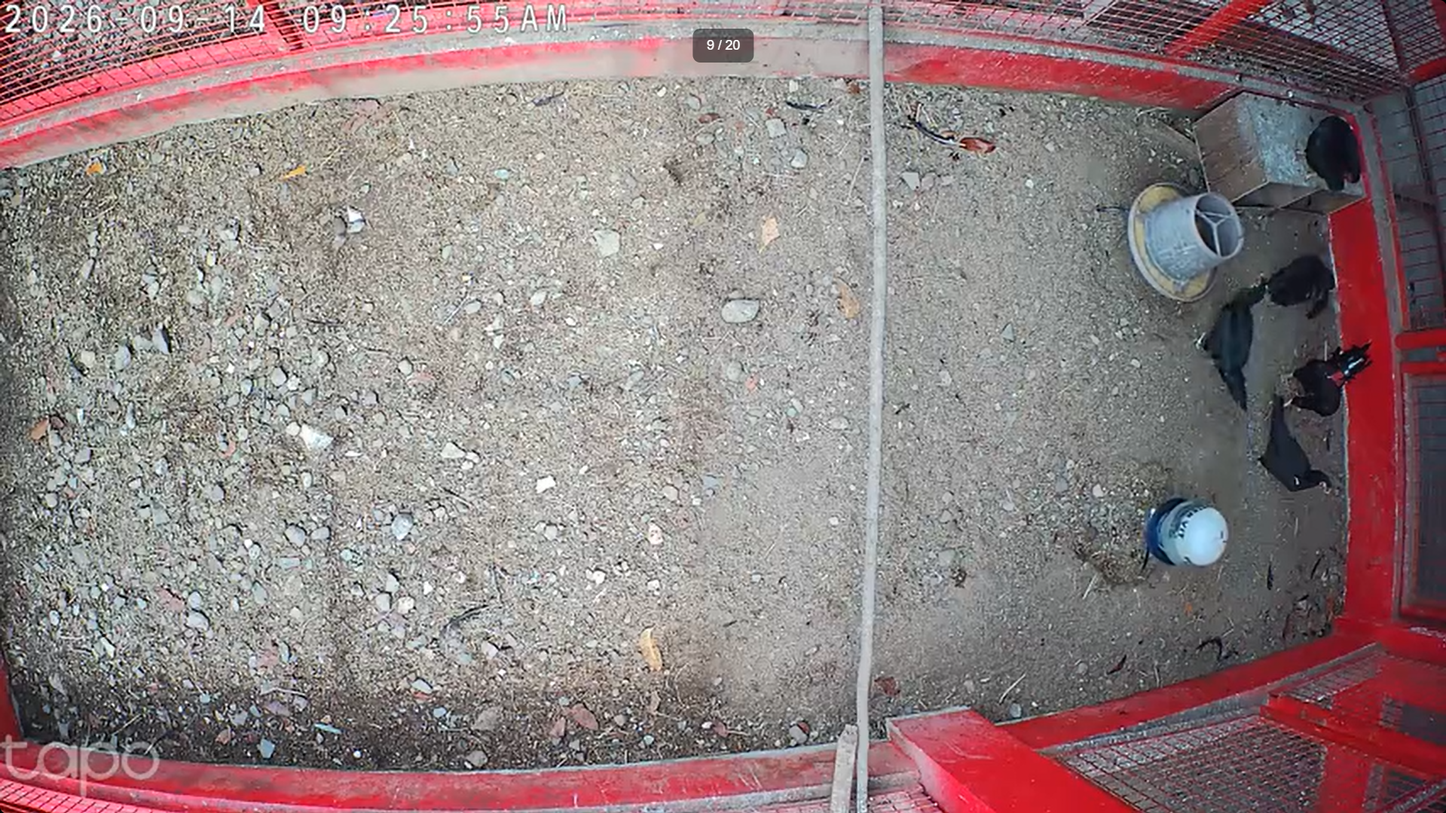Chicken: (1191, 269, 1268, 413)
